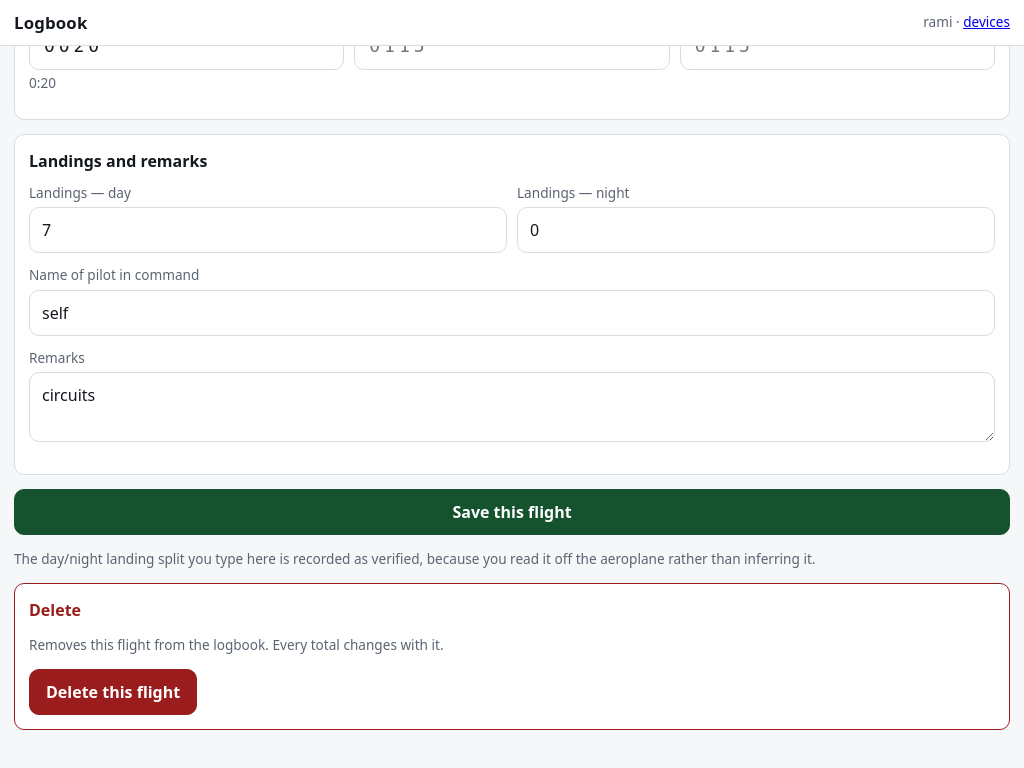
editing a flight › takes over the screen after a correction too, and can go back to it
(page scrolled)
Click the button "Save this flight" at (512, 512), box x1=14 y1=489 x2=1010 y2=535
(page scrolled)
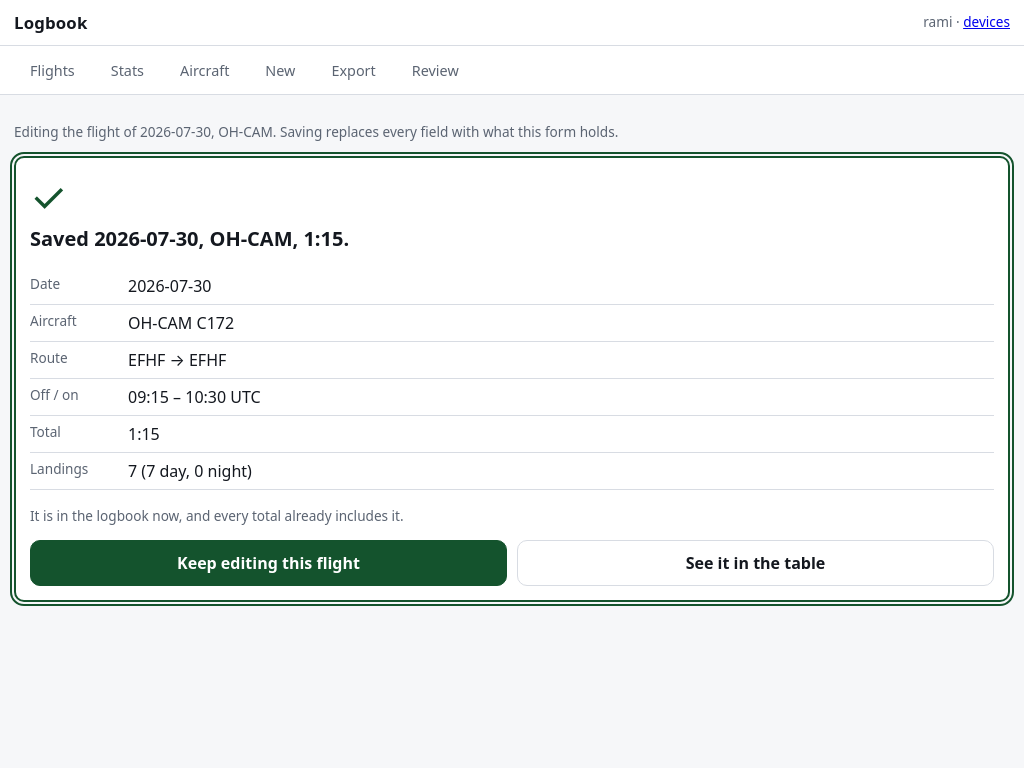
Check: the message is shown, box x1=14 y1=156 x2=1010 y2=602
Click the button "Keep editing this flight" at (268, 563), box x1=30 y1=540 x2=507 y2=586
(page scrolled)
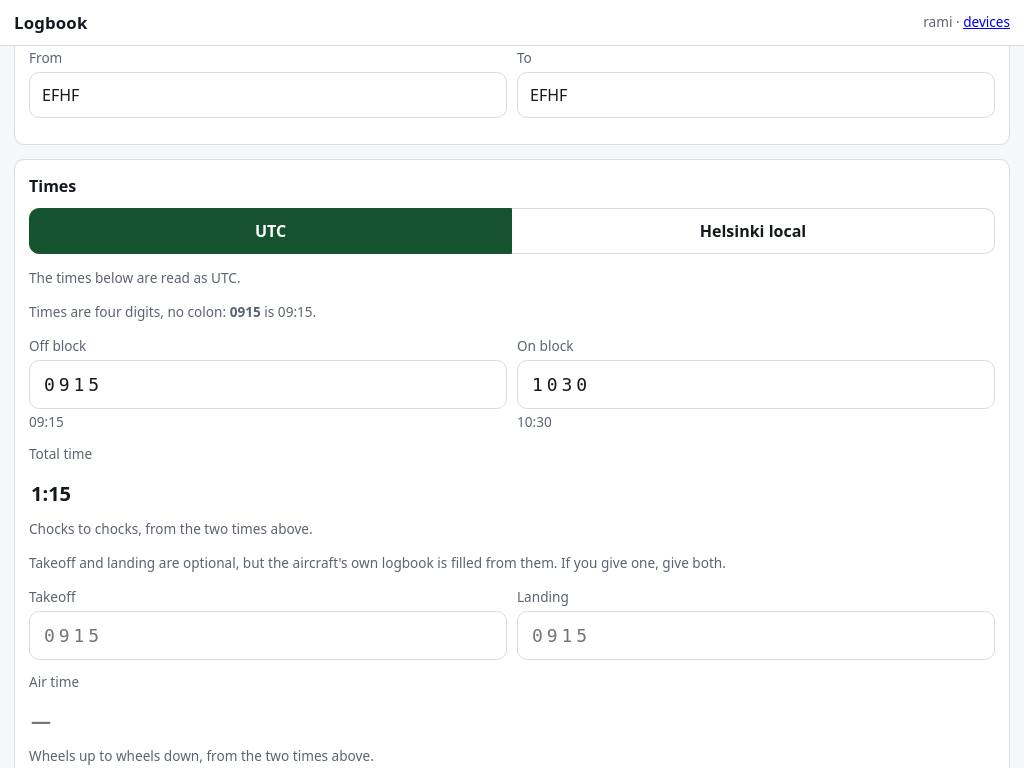
Check: the field labelled "Off block" holds "0915", box x1=29 y1=360 x2=507 y2=409
